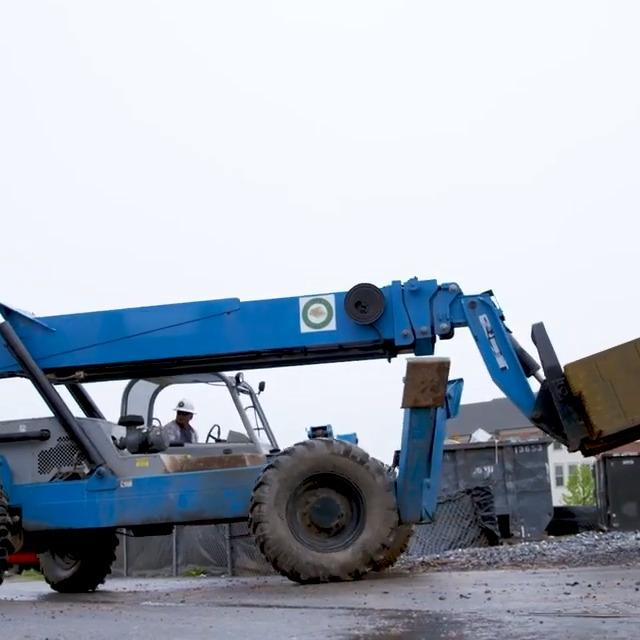Hardhat: (171, 397, 197, 414)
NO-Mask: (176, 416, 189, 423)
NO-Safety Vest: (164, 421, 198, 443)
Person: (163, 397, 199, 443)
machinery: (0, 272, 640, 600)
